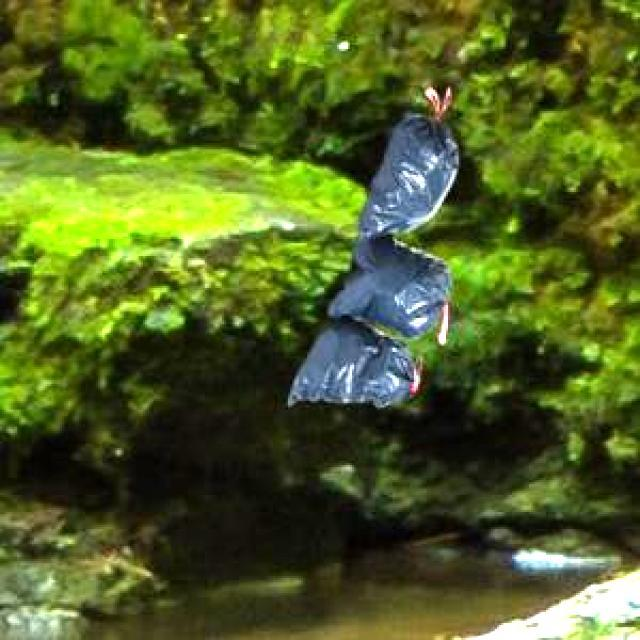Garbage_Bag: (284, 110, 456, 404)
